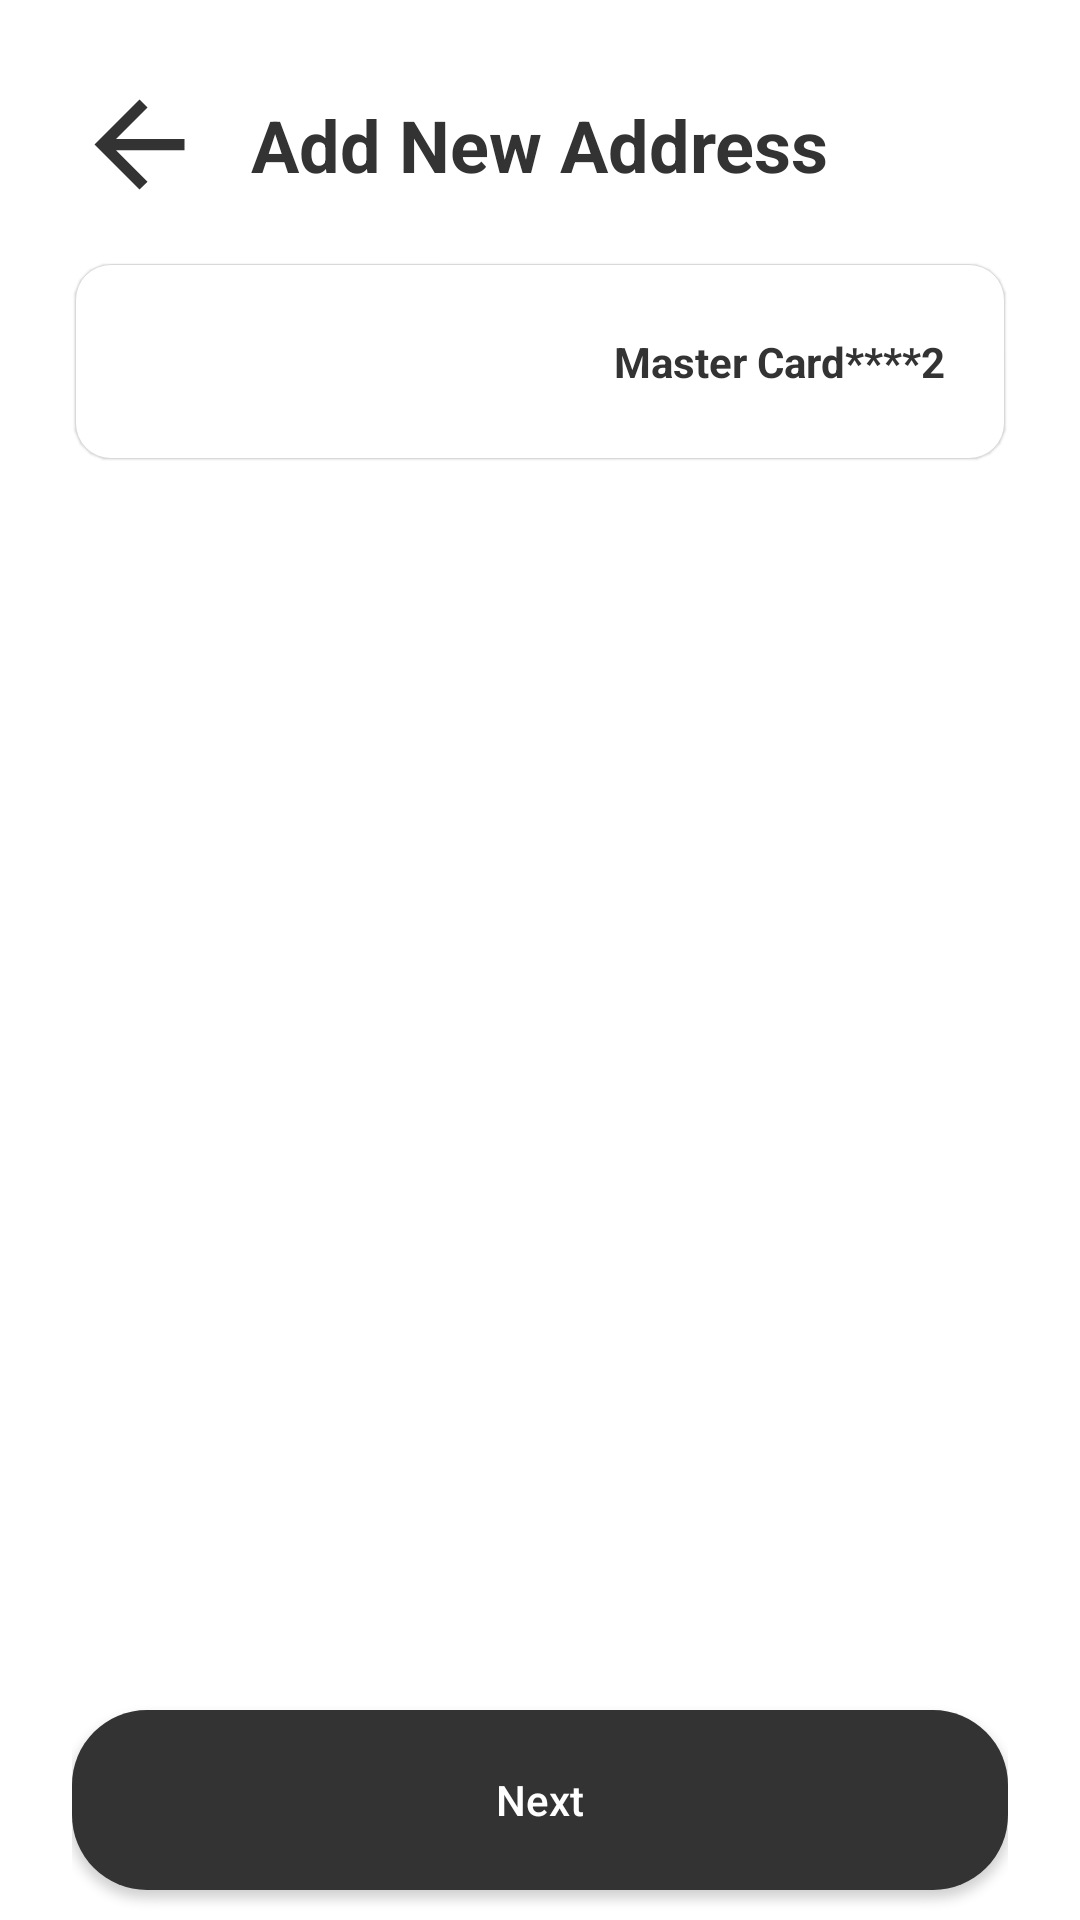

Locate icon controls on the screen. Image size 1080 x 1920, boxes as box=[x1, y1, x2, y2].
back arrow: box=[94, 99, 185, 190]
